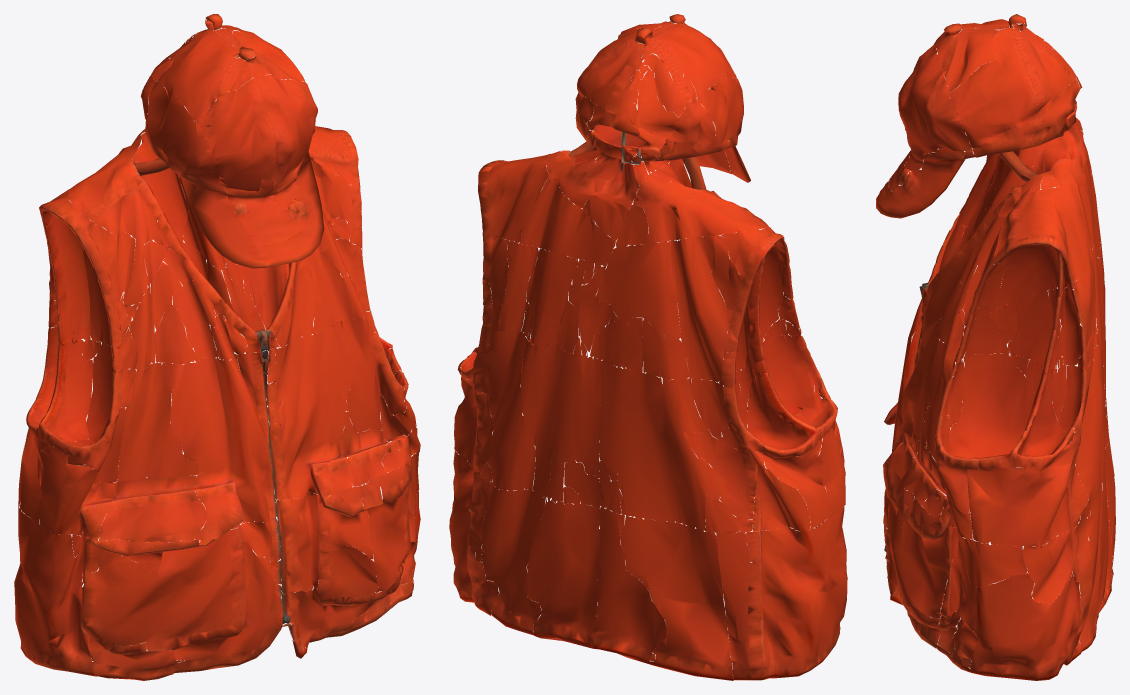
Rendered from vest_prop.glb.
3 renders of one model, left to right at view 1: azimuth 30°, elevation 25°; view 2: azimuth 150°, elevation 25°; view 3: azimuth 270°, elevation 25°, orthographic. The views are drawn at different scales.
Parts seen in each view (by area): view 1: prop_vest; view 2: prop_vest; view 3: prop_vest.
Boxes of the visible parts, x1,y1,x2,y2 form: prop_vest: [14, 14, 420, 680]; prop_vest: [449, 14, 847, 680]; prop_vest: [876, 14, 1115, 680].
Bounding box in the file's own units: 0.6355 × 0.9807 × 0.3648.
Materials: 1 (1 with a texture image).
